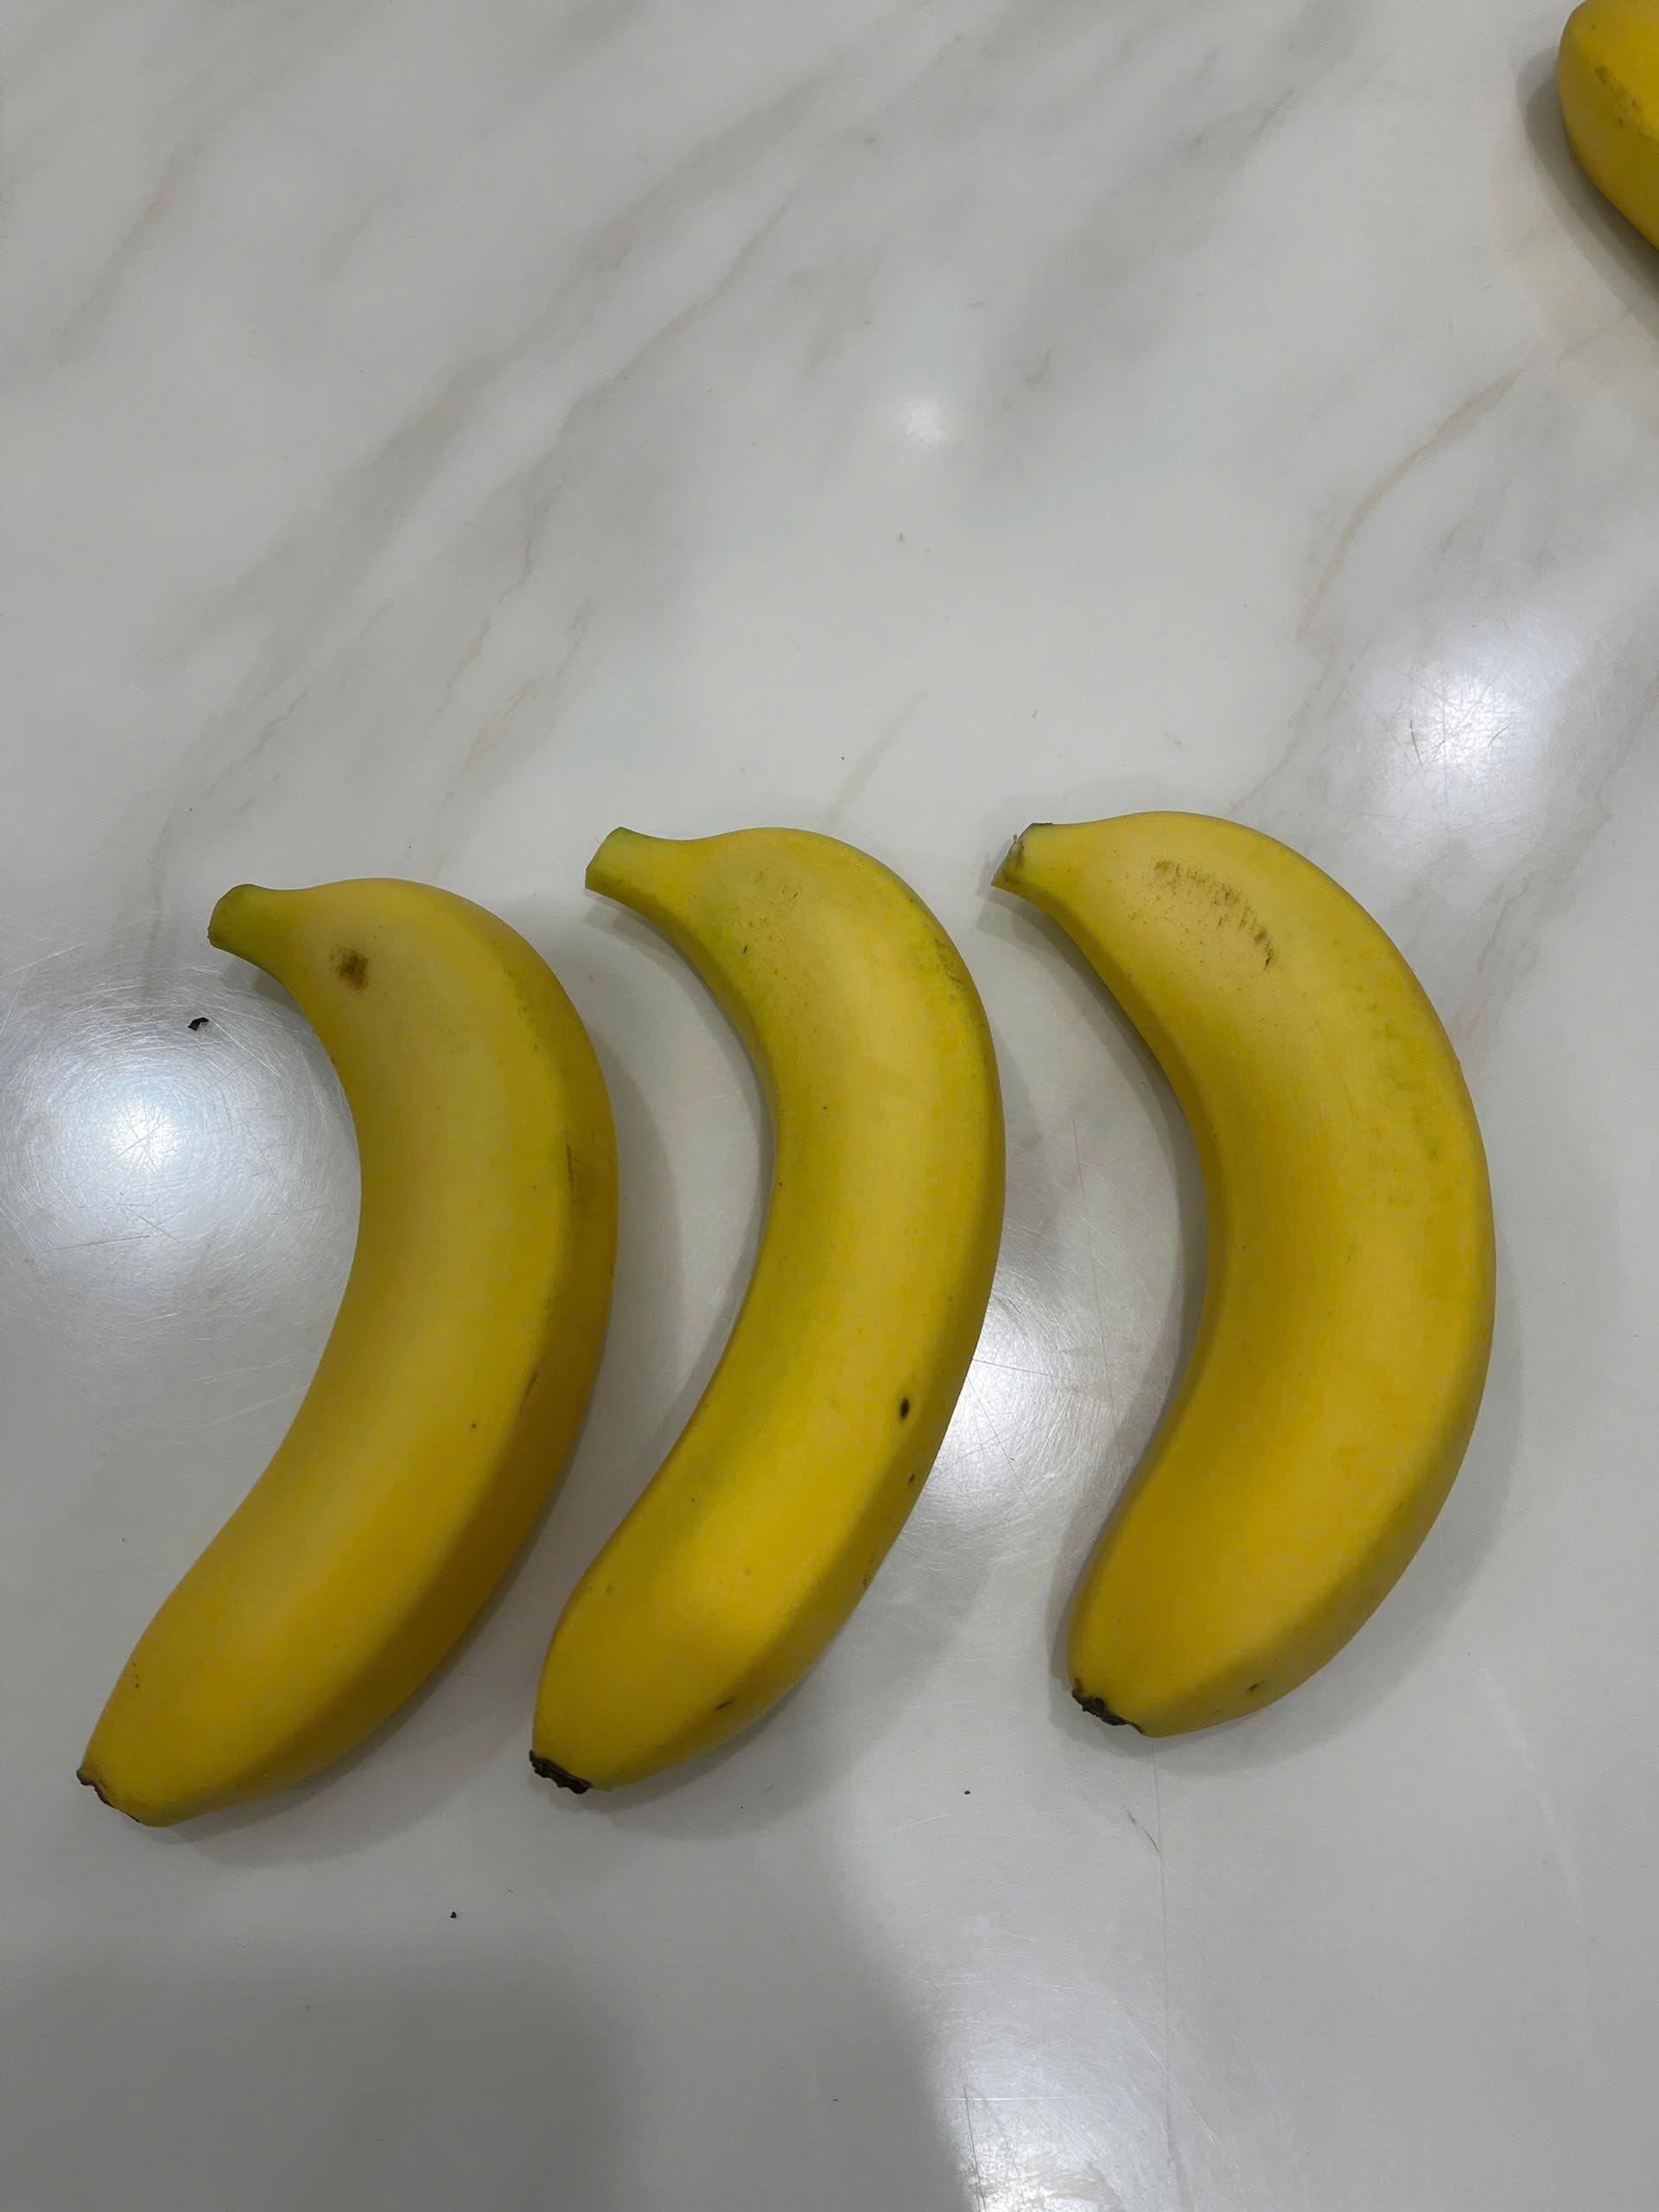banana: (983, 754, 1551, 1770), (58, 829, 598, 1841), (544, 775, 1011, 1836)
